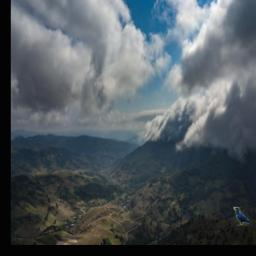Crow: (234, 208, 253, 227)
